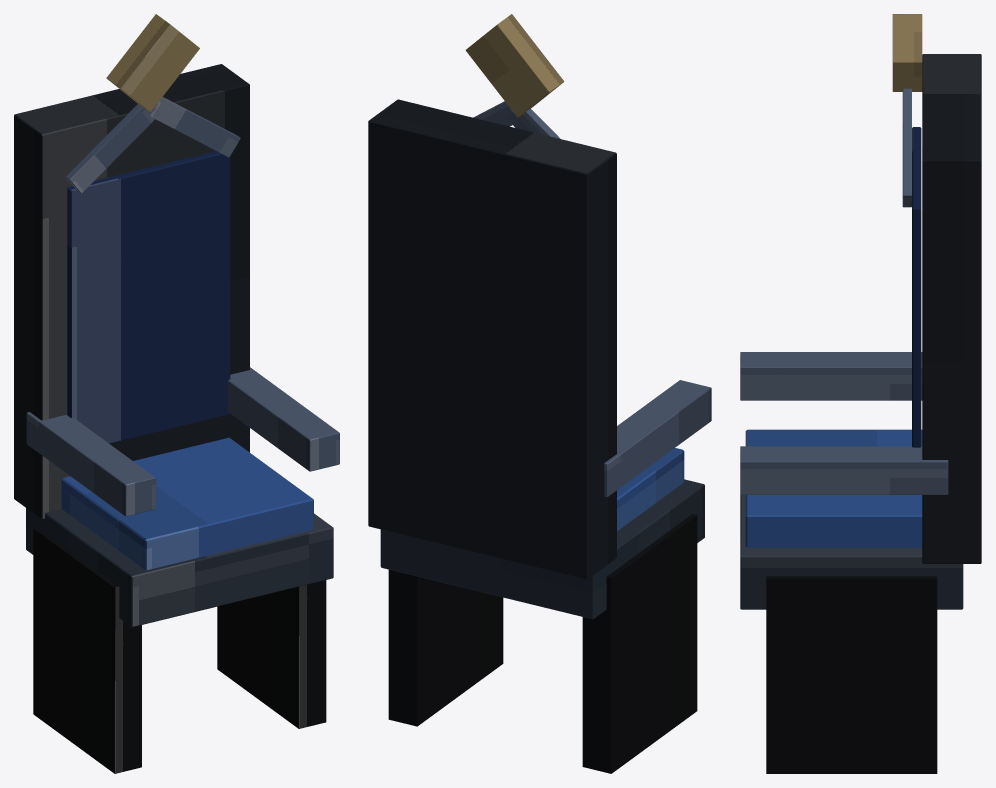
The model's file is gothic_highback_chair_midnight.glb.
The picture shows the model from 3 angles, left to right: view 1: azimuth 30°, elevation 25°; view 2: azimuth 150°, elevation 25°; view 3: azimuth 270°, elevation 25°; orthographic projection. The views are drawn at different scales.
Parts seen in each view (by area): view 1: VelvetBack, TallBack, ChairLeg-0.3, VelvetSeat, ChairSeat, ChairLeg0.3, ChairArm-0.3, ChairArm0.3, ChairCrest, ChairArchLeft, ChairArchRight; view 2: TallBack, ChairLeg-0.3, ChairLeg0.3, ChairSeat, ChairArm-0.3, ChairCrest, VelvetSeat, ChairArchLeft, ChairArchRight; view 3: ChairLeg0.3, TallBack, VelvetSeat, ChairArm0.3, ChairArm-0.3, ChairSeat, VelvetBack, ChairCrest, ChairArchRight.
Boxes of the visible parts, <box> form: VelvetBack: <box>67,151,230,443</box>; TallBack: <box>14,64,249,519</box>; ChairLeg-0.3: <box>33,527,141,773</box>; VelvetSeat: <box>61,437,313,570</box>; ChairSeat: <box>26,508,333,627</box>; ChairLeg0.3: <box>217,580,326,728</box>; ChairArm-0.3: <box>26,412,155,516</box>; ChairArm0.3: <box>227,367,339,471</box>; ChairCrest: <box>106,14,199,112</box>; ChairArchLeft: <box>66,103,160,193</box>; ChairArchRight: <box>150,97,240,157</box>; TallBack: <box>368,99,616,579</box>; ChairLeg-0.3: <box>582,514,697,773</box>; ChairLeg0.3: <box>388,569,503,726</box>; ChairSeat: <box>380,479,704,619</box>; ChairArm-0.3: <box>604,380,711,497</box>; ChairCrest: <box>465,14,564,117</box>; VelvetSeat: <box>617,448,684,531</box>; ChairArchLeft: <box>507,108,560,138</box>; ChairArchRight: <box>473,101,517,126</box>; ChairLeg0.3: <box>766,576,937,773</box>; TallBack: <box>922,54,981,563</box>; VelvetSeat: <box>745,429,922,547</box>; ChairArm0.3: <box>740,446,948,494</box>; ChairArm-0.3: <box>740,352,922,400</box>; ChairSeat: <box>740,495,963,609</box>; VelvetBack: <box>912,127,921,447</box>; ChairCrest: <box>892,14,922,91</box>; ChairArchRight: <box>902,91,911,207</box>.
Size of the model in its own units: 0.7 by 2.11 by 0.65.
Materials: 1 (1 with a texture image).
